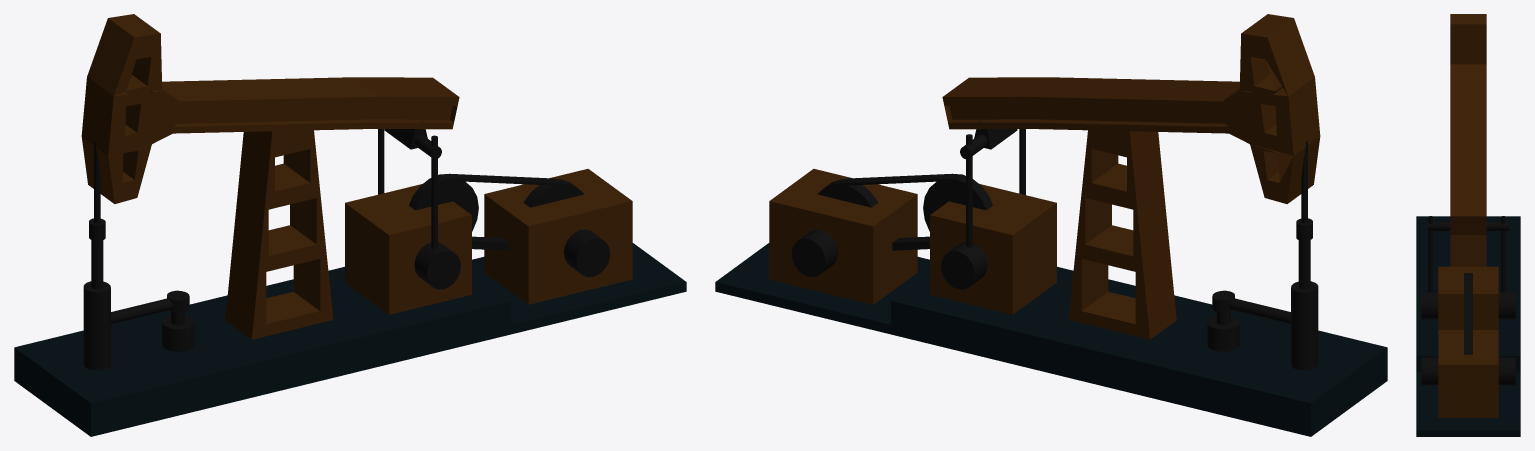
File: pumpjack.obj
3 renders of one model, left to right at view 1: azimuth 30°, elevation 25°; view 2: azimuth 150°, elevation 25°; view 3: azimuth 270°, elevation 25°, orthographic. The views are drawn at different scales.
Visible parts, largest first — view 1: pumpjack4:group37pCube5; view 2: pumpjack4:group37pCube5; view 3: pumpjack4:group37pCube5.
Part boxes in pixels (x1,y1,x2,y2): pumpjack4:group37pCube5: [14, 14, 686, 436]; pumpjack4:group37pCube5: [715, 14, 1387, 436]; pumpjack4:group37pCube5: [1416, 14, 1520, 436].
Bounding box in the file's own units: 48.34 × 28.26 × 10.76.
